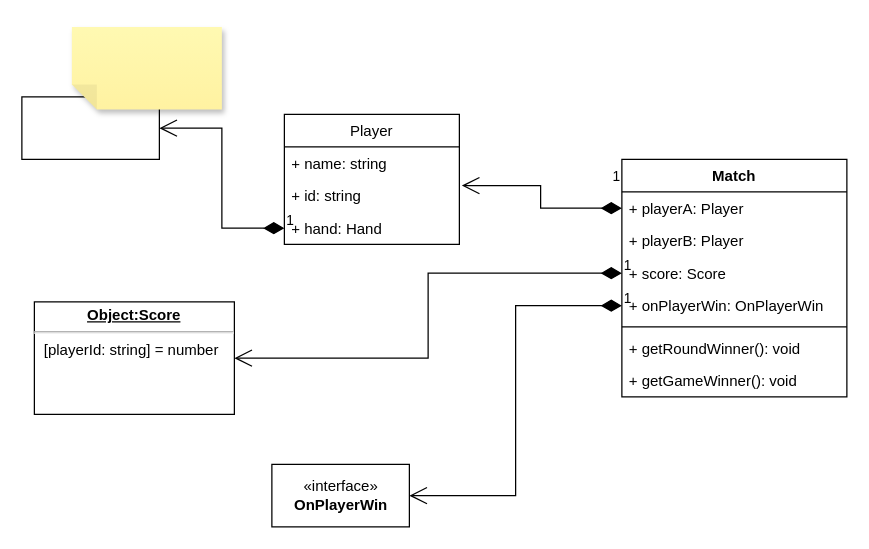
This 869x549 diagram has some shape labels left out. Each missing label, with the centre of its shape:
Hand is an Enum: PAPER, ROCK, SCISSORS: [147,69]
«interface» Hand: [90,127]
